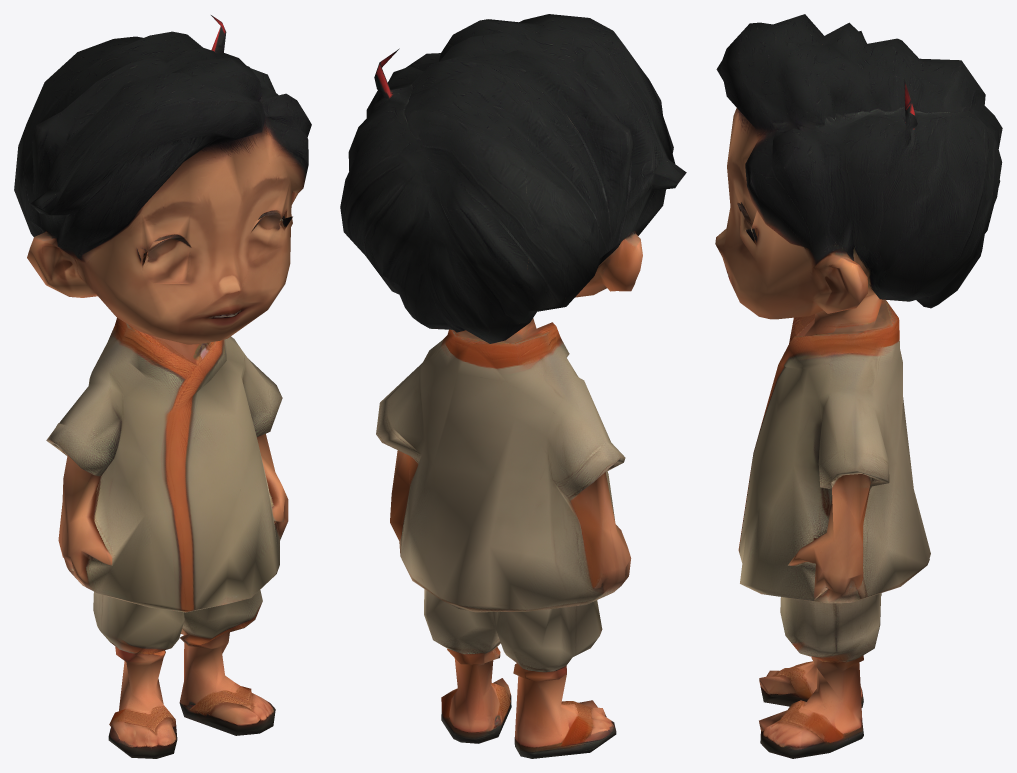
The model's file is villager-npc.glb.
3 views of the same model, side by side, from view 1: azimuth 30°, elevation 25°; view 2: azimuth 150°, elevation 25°; view 3: azimuth 270°, elevation 25° (orthographic). The views are drawn at different scales.
Parts seen in each view (by area): view 1: Mesh_0; view 2: Mesh_0; view 3: Mesh_0.
Boxes of the visible parts, x1,y1,x2,y2 form: Mesh_0: (14, 15, 311, 758); Mesh_0: (340, 14, 686, 758); Mesh_0: (715, 14, 1002, 758).
Size of the model in its own units: 0.5393 by 1.2 by 0.4582.
1 material, 1 textured.
